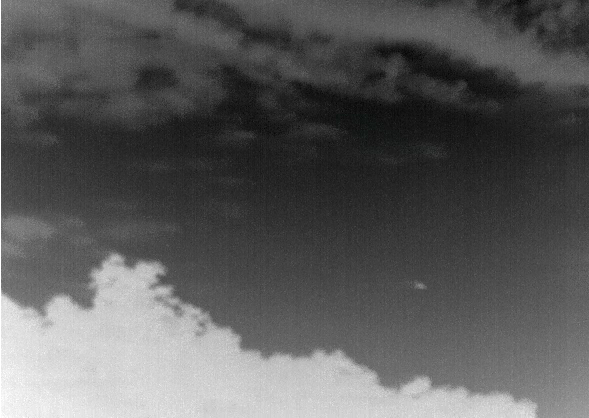dim target: (413, 281, 428, 291)
